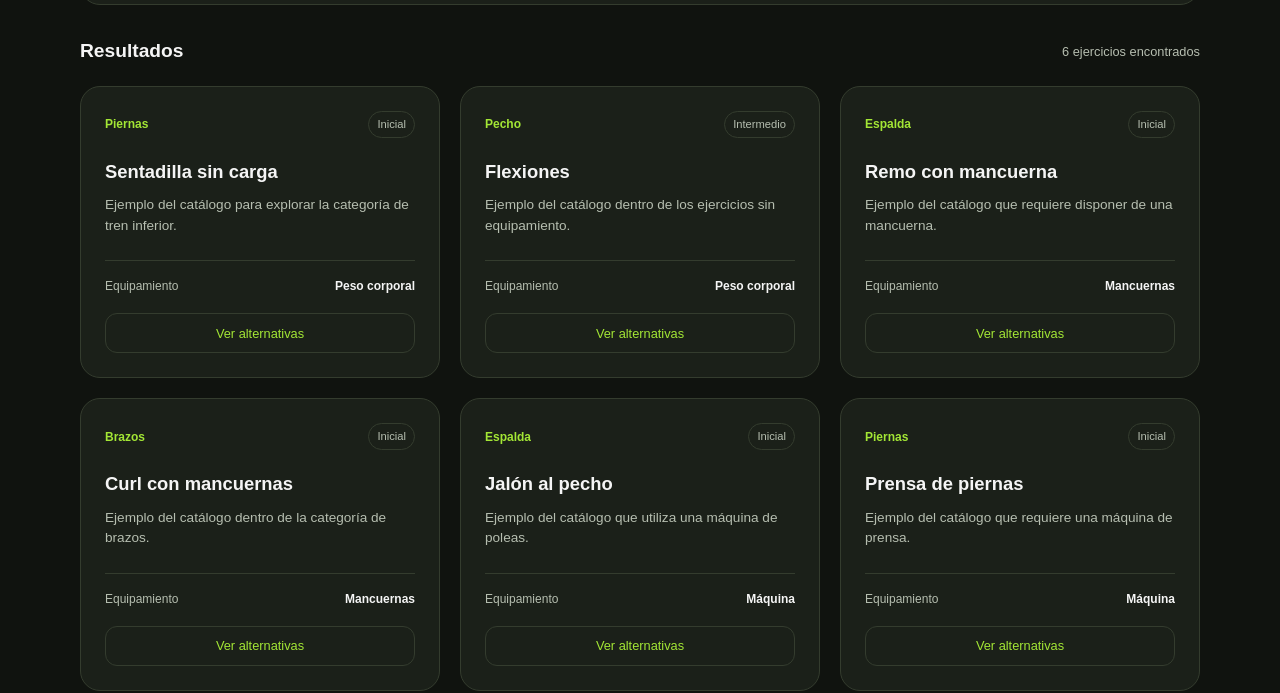
Scenario: CatalogComponent › abre las conexiones directas de un ejercicio
(page scrolled)
Click the button "Ver alternativas" below "Remo con mancuerna" at (1020, 333), box [865,313,1175,353]
(page scrolled)
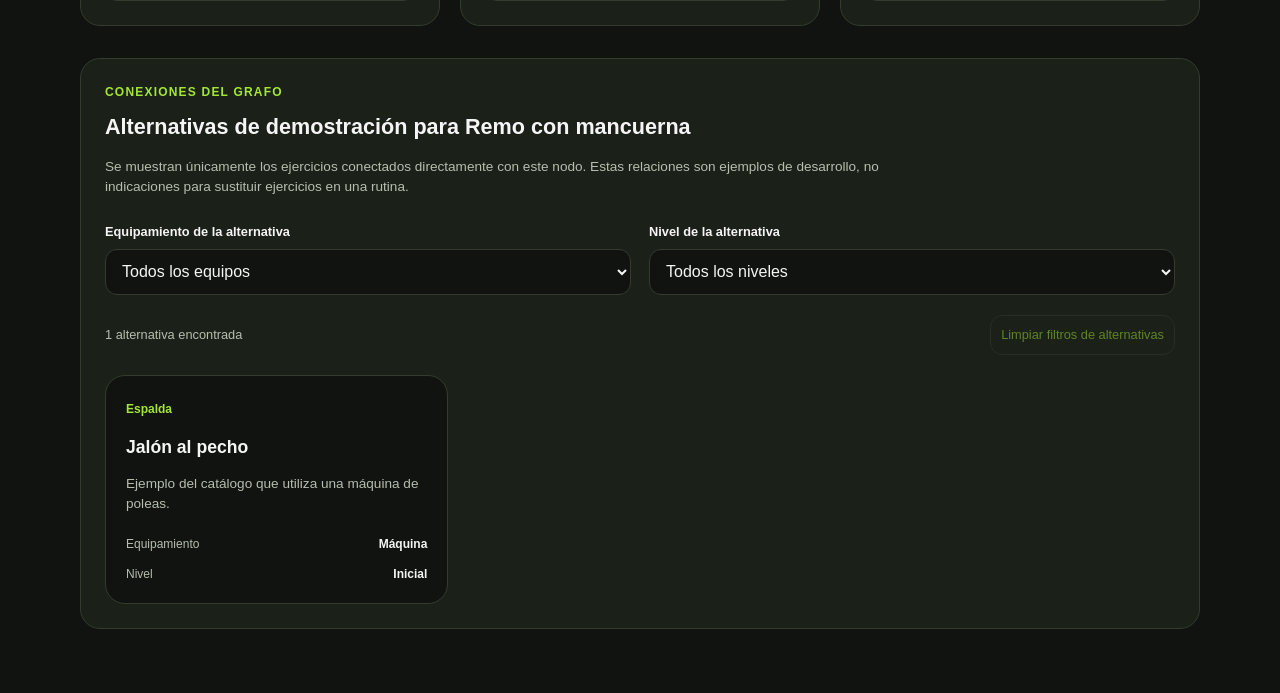
Expected: the heading with id "alternatives-title" shows "Remo con mancuerna", [105,114,691,139]
Expected: the element with class "alternative-card" shows "Jalón al pecho", [126,437,248,457]
